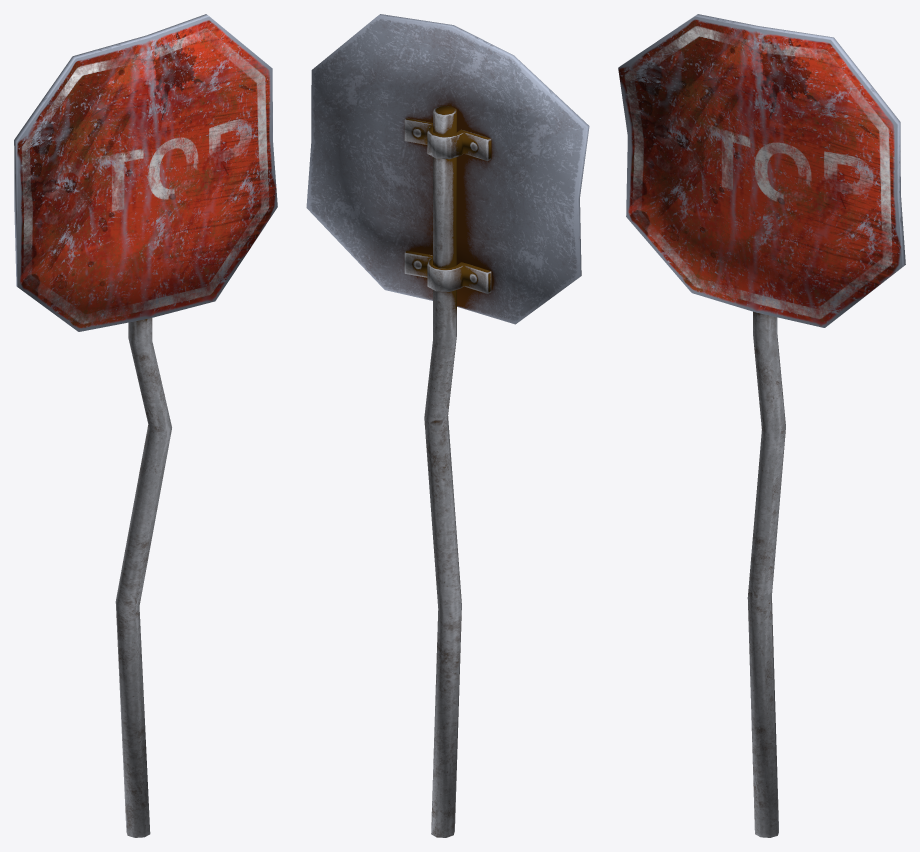
Rendered from Road sign.fbx.
The picture shows the model from 3 angles, left to right: view 1: azimuth 30°, elevation 25°; view 2: azimuth 150°, elevation 25°; view 3: azimuth 330°, elevation 25°; orthographic projection.
Parts seen in each view (by area): view 1: Stop; view 2: Stop; view 3: Stop.
Boxes of the visible parts, x1,y1,x2,y2 form: Stop: (14,14,277,837); Stop: (306,14,589,837); Stop: (618,14,905,837).
Size of the model in its own units: 64.19 by 182 by 8.9.
